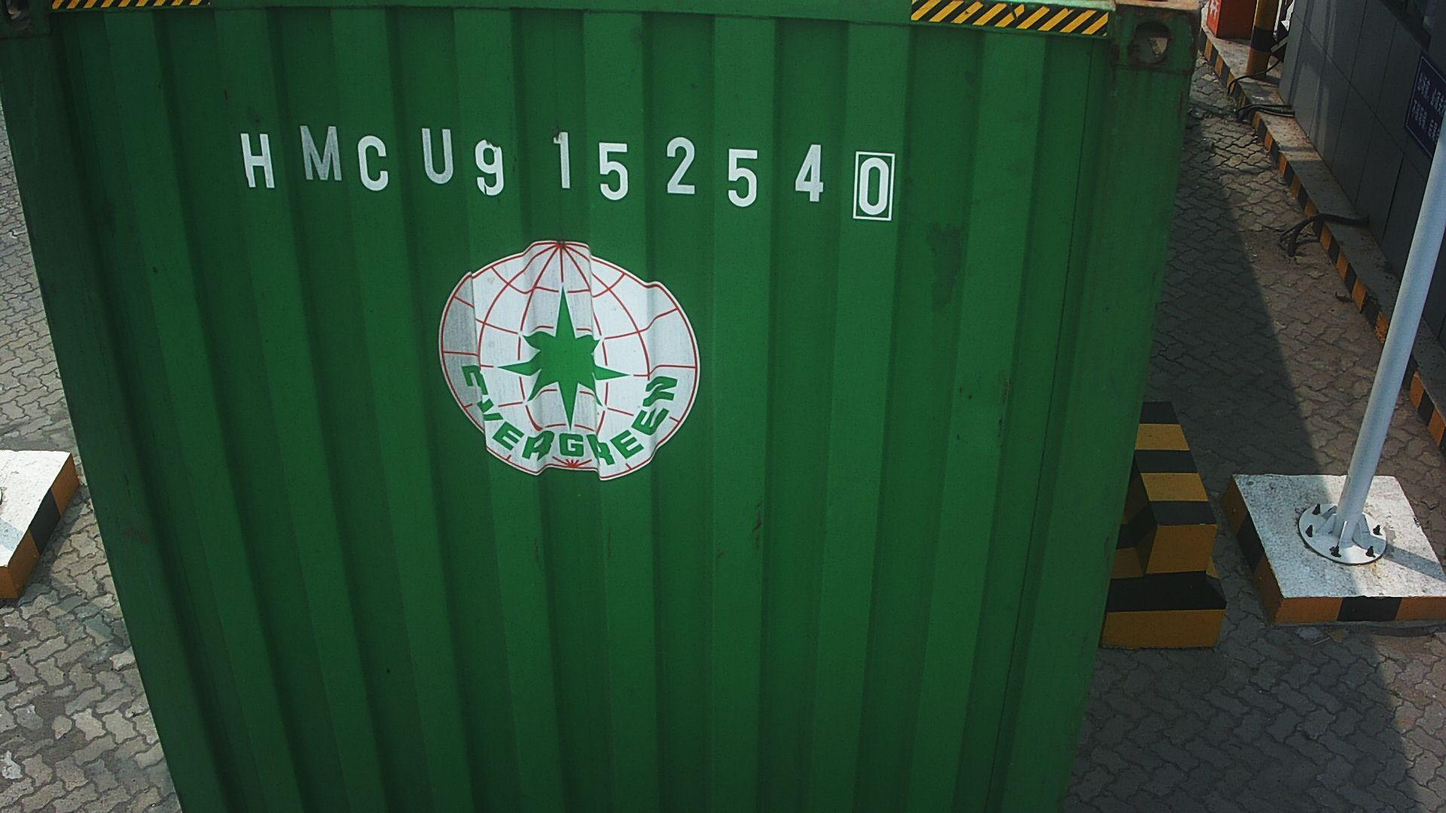container-numbers: (233, 122, 901, 224)
